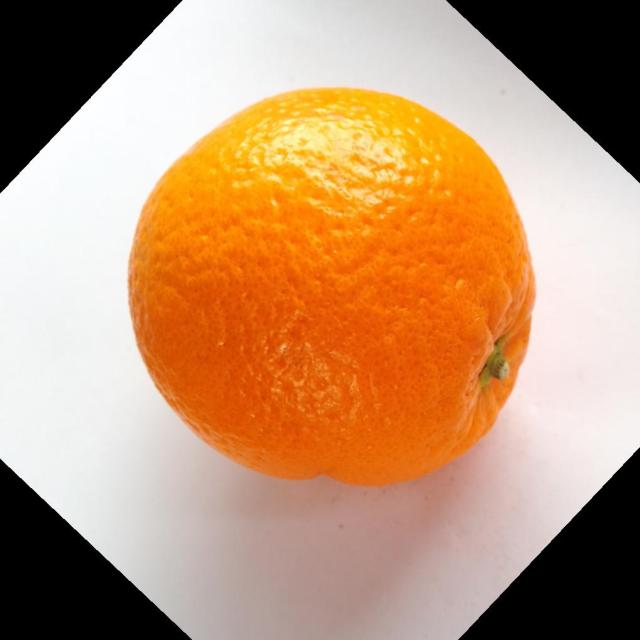fresh orange: (126, 85, 537, 488)
